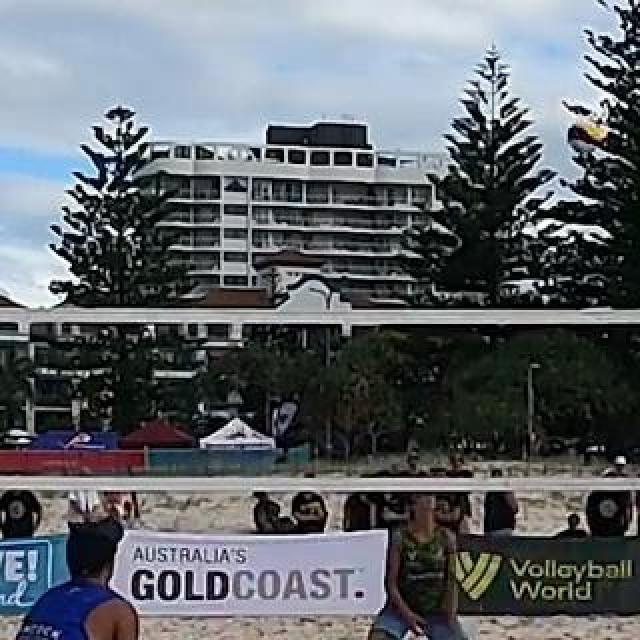volleyball: (572, 115, 606, 147)
